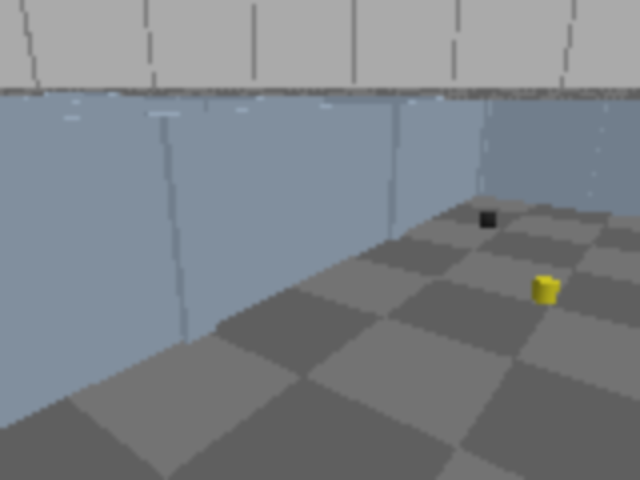puck: (532, 277, 559, 304), (474, 209, 501, 232)
